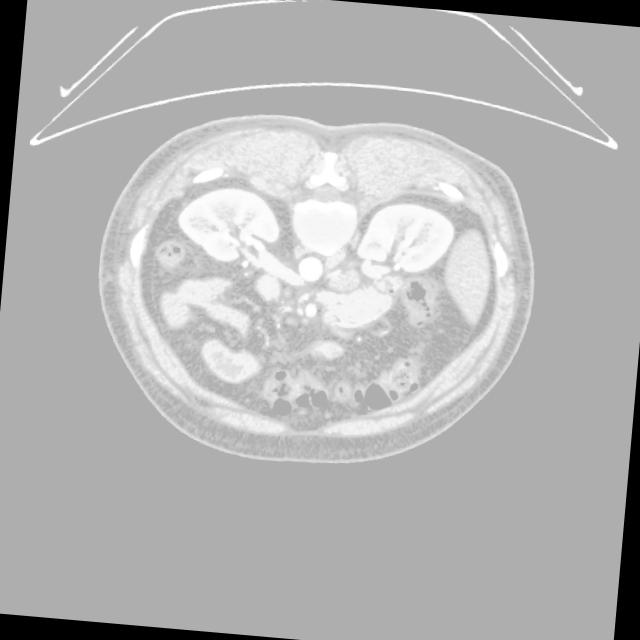NORMAL: (88, 104, 535, 479)
